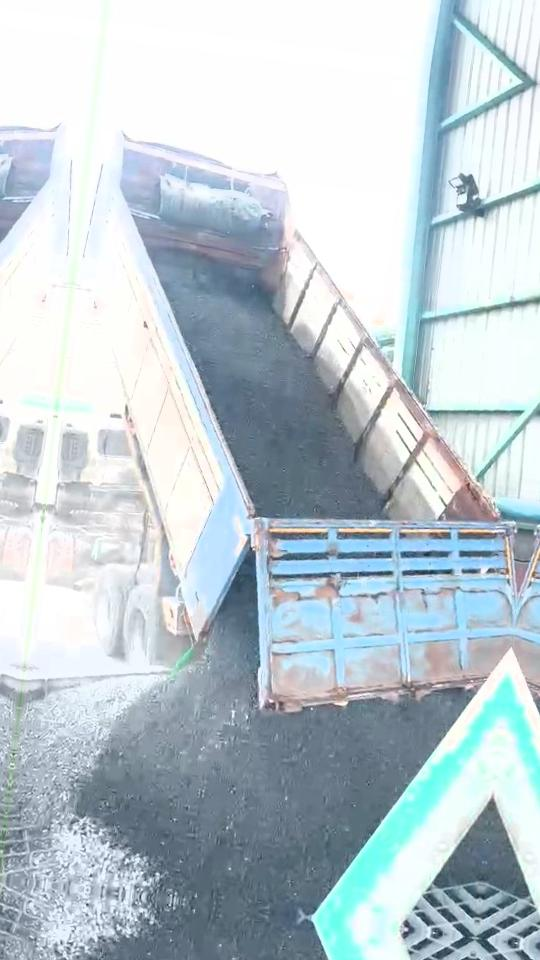gravel: (17, 561, 467, 915), (152, 251, 382, 518), (444, 813, 490, 882)
